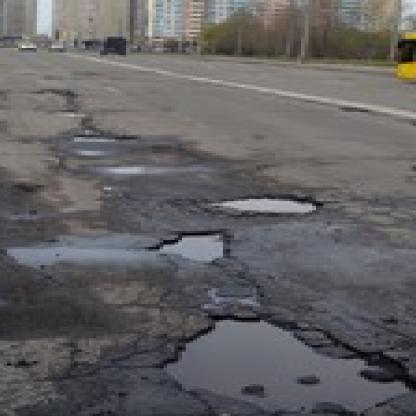pothole: (163, 313, 416, 416), (149, 229, 231, 261), (216, 196, 320, 215), (74, 133, 137, 146), (342, 103, 368, 114)
